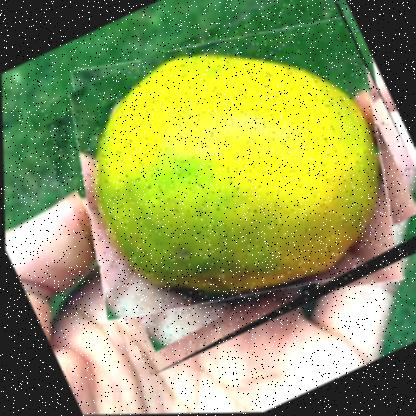orange: (23, 0, 415, 378)
